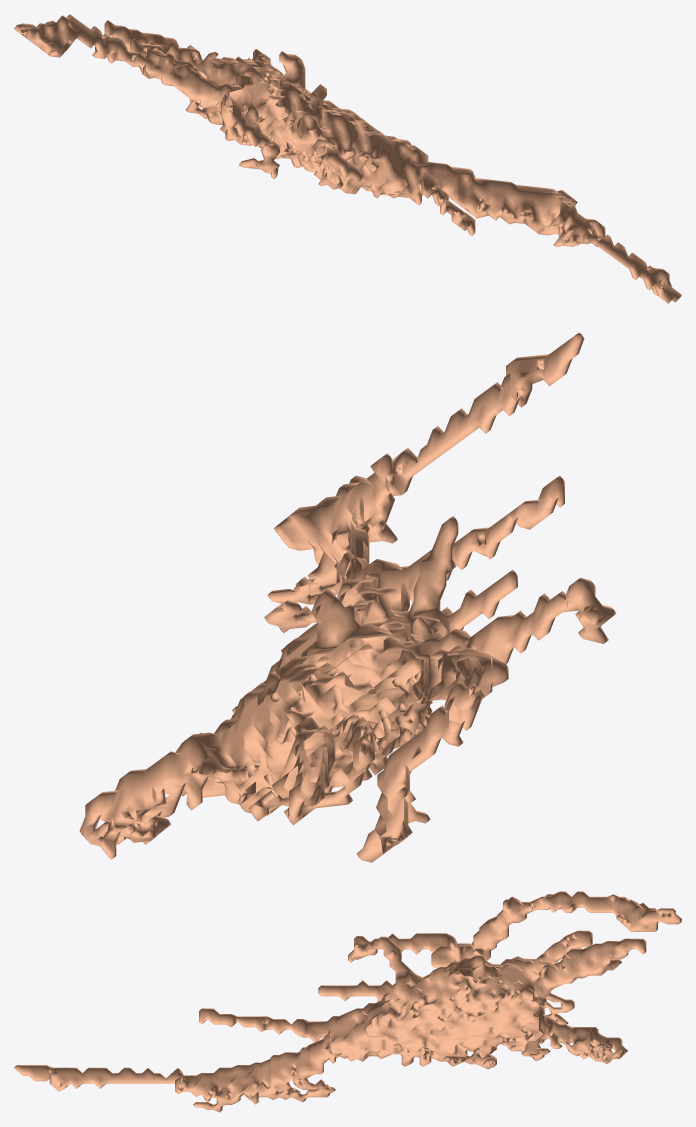
File: osteocyte_6.glb
3 views of the same model, one above another, from view 1: azimuth 30°, elevation 25°; view 2: azimuth 150°, elevation 25°; view 3: azimuth 270°, elevation 25° (orthographic). The views are drawn at different scales.
Visible parts, largest first — view 1: osteocyte_6; view 2: osteocyte_6; view 3: osteocyte_6.
Part boxes in pixels (x1,y1,x2,y2): osteocyte_6: [14, 14, 681, 303]; osteocyte_6: [79, 332, 616, 862]; osteocyte_6: [14, 891, 681, 1112].
Bounding box in the file's own units: 25.04 × 9.15 × 53.93.
